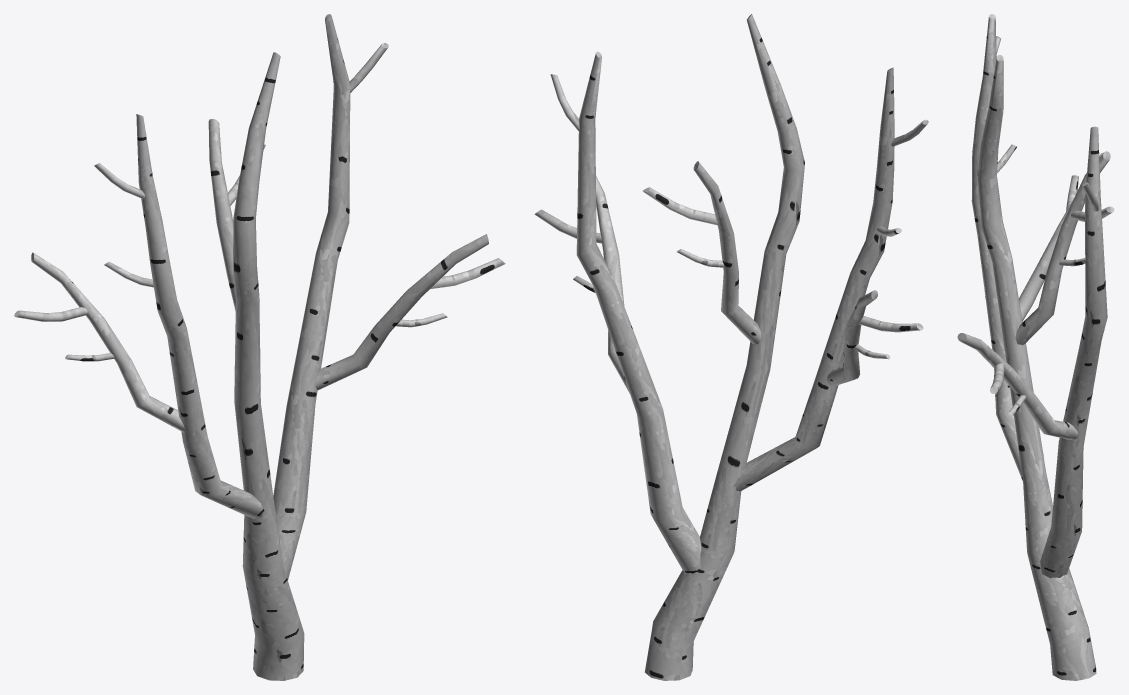
The model's file is quaternius-textured-stylized-trees-deadbirch-3.glb.
3 renders of one model, left to right at view 1: azimuth 30°, elevation 25°; view 2: azimuth 150°, elevation 25°; view 3: azimuth 270°, elevation 25°, orthographic. The views are drawn at different scales.
Visible parts, largest first — view 1: DeadBirch_3; view 2: DeadBirch_3; view 3: DeadBirch_3.
Part boxes in pixels (x1,y1,x2,y2): DeadBirch_3: (14,14,505,680); DeadBirch_3: (534,14,928,680); DeadBirch_3: (957,14,1114,680).
Size of the model in its own units: 7.13 by 10.09 by 2.41.
1 material, 1 textured.
